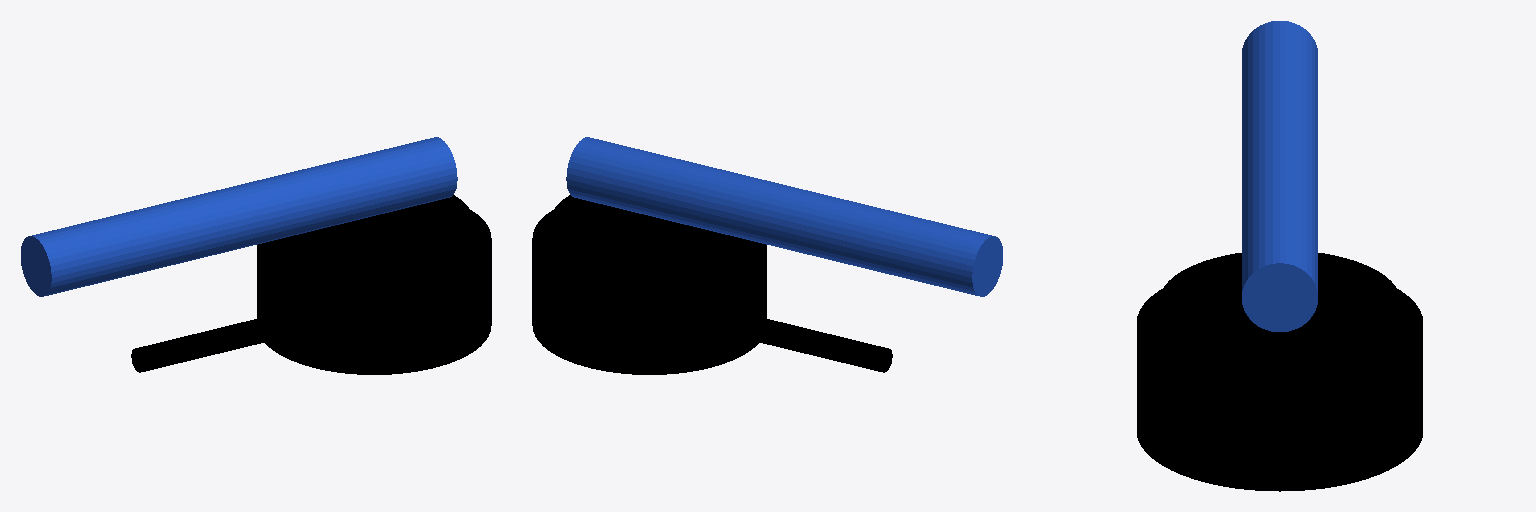
robot.urdf — iiwa7:
<?xml version="1.0" ?>
<!-- =================================================================================== -->
<!-- |    This document was autogenerated by xacro from xacro/iiwa7.urdf.xacro         | -->
<!-- |    EDITING THIS FILE BY HAND IS NOT RECOMMENDED                                 | -->
<!-- =================================================================================== -->
<robot name="iiwa7" xmlns:xacro="http://www.ros.org/wiki/xacro">
  <material name="Black">
    <color rgba="0.0 0.0 0.0 1.0"/>
  </material>
  <material name="Blue">
    <color rgba="0.0 0.0 0.8 1.0"/>
  </material>
  <material name="Light_blue">
    <color rgba="0.2 0.4 0.8 1.0"/>
  </material>
  <material name="Green">
    <color rgba="0.0 0.8 0.0 1.0"/>
  </material>
  <material name="Grey">
    <color rgba="0.4 0.4 0.4 1.0"/>
  </material>
  <material name="Orange">
    <color rgba="1.0 0.4235294117647059 0.0392156862745098 1.0"/>
  </material>
  <material name="Brown">
    <color rgba="0.8705882352941177 0.8117647058823529 0.7647058823529411 1.0"/>
  </material>
  <material name="Red">
    <color rgba="0.8 0.0 0.0 1.0"/>
  </material>
  <material name="White">
    <color rgba="1.0 1.0 1.0 1.0"/>
  </material>
  <link name="iiwa_link_0">
    <inertial>
      <origin rpy="0 0 0" xyz="-0.1 0 0.07"/>
      <mass value="5"/>
      <inertia ixx="0.05" ixy="0" ixz="0" iyy="0.06" iyz="0" izz="0.03"/>
    </inertial>
    <visual>
      <origin rpy="0 0 0" xyz="0 0 0"/>
      <geometry>
        <mesh filename="meshes/iiwa7/visual/link_0.stl"/>
      </geometry>
      <material name="Grey"/>
    </visual>
    <collision>
      <origin rpy="0 0 0" xyz="0 0 0"/>
      <geometry>
        <mesh filename="meshes/iiwa7/collision/link_0.stl"/>
      </geometry>
      <material name="Grey"/>
    </collision>
    <self_collision_checking>
      <origin rpy="0 0 0" xyz="0 0 0"/>
      <geometry>
        <cylinder length="0.25" radius="0.15"/>
      </geometry>
    </self_collision_checking>
  </link>
  <!-- joint between link_0 and link_1 -->
  <joint name="iiwa_joint_1" type="revolute">
    <parent link="iiwa_link_0"/>
    <child link="iiwa_link_1"/>
    <origin rpy="0 0 0" xyz="0 0 0.15"/>
    <axis xyz="0 0 1"/>
    <limit effort="300" lower="-2.9670597283903604" upper="2.9670597283903604" velocity="10"/>
    <safety_controller k_position="100" k_velocity="2" soft_lower_limit="-2.9321531433504737" soft_upper_limit="2.9321531433504737"/>
    <dynamics damping="0.5"/>
  </joint>
  <link name="iiwa_link_1">
    <inertial>
      <origin rpy="0 0 0" xyz="0 -0.03 0.12"/>
      <mass value="3.4525"/>
      <inertia ixx="0.02183" ixy="0" ixz="0" iyy="0.007703" iyz="-0.003887" izz="0.02083"/>
    </inertial>
    <visual>
      <origin rpy="0 0 0" xyz="0 0 0.0075"/>
      <geometry>
        <mesh filename="meshes/iiwa7/visual/link_1.stl"/>
      </geometry>
      <material name="Orange"/>
    </visual>
    <collision>
      <origin rpy="0 0 0" xyz="0 0 0.0075"/>
      <geometry>
        <mesh filename="meshes/iiwa7/collision/link_1.stl"/>
      </geometry>
      <material name="Orange"/>
    </collision>
  </link>
  <joint name="iiwa_joint_2" type="revolute">
    <parent link="iiwa_link_1"/>
    <child link="iiwa_link_2"/>
    <origin rpy="1.5707963267948966   0 3.141592653589793" xyz="0 0 0.19"/>
    <axis xyz="0 0 1"/>
    <limit effort="300" lower="-2.0943951023931953" upper="2.0943951023931953" velocity="10"/>
    <safety_controller k_position="100" k_velocity="2" soft_lower_limit="-2.0594885173533086" soft_upper_limit="2.0594885173533086"/>
    <dynamics damping="0.5"/>
  </joint>
  <link name="iiwa_link_2">
    <inertial>
      <origin rpy="0 0 0" xyz="0.0003 0.059 0.042"/>
      <mass value="3.4821"/>
      <inertia ixx="0.02076" ixy="0" ixz="-0.003626" iyy="0.02179" iyz="0" izz="0.00779"/>
    </inertial>
    <visual>
      <origin rpy="0 0 0" xyz="0 0 0"/>
      <geometry>
        <mesh filename="meshes/iiwa7/visual/link_2.stl"/>
      </geometry>
      <material name="Orange"/>
    </visual>
    <collision>
      <origin rpy="0 0 0" xyz="0 0 0"/>
      <geometry>
        <mesh filename="meshes/iiwa7/collision/link_2.stl"/>
      </geometry>
      <material name="Orange"/>
    </collision>
  </link>
  <joint name="iiwa_joint_3" type="revolute">
    <parent link="iiwa_link_2"/>
    <child link="iiwa_link_3"/>
    <origin rpy="1.5707963267948966 0 3.141592653589793" xyz="0 0.21 0"/>
    <axis xyz="0 0 1"/>
    <limit effort="300" lower="-2.9670597283903604" upper="2.9670597283903604" velocity="10"/>
    <safety_controller k_position="100" k_velocity="2" soft_lower_limit="-2.9321531433504737" soft_upper_limit="2.9321531433504737"/>
    <dynamics damping="0.5"/>
  </joint>
  <link name="iiwa_link_3">
    <inertial>
      <origin rpy="0 0 0" xyz="0 0.03 0.13"/>
      <mass value="4.05623"/>
      <inertia ixx="0.03204" ixy="0" ixz="0" iyy="0.00972" iyz="0.006227" izz="0.03042"/>
    </inertial>
    <visual>
      <origin rpy="0 0 0" xyz="0 0 -0.026"/>
      <geometry>
        <mesh filename="meshes/iiwa7/visual/link_3.stl"/>
      </geometry>
      <material name="Orange"/>
    </visual>
    <collision>
      <origin rpy="0 0 0" xyz="0 0 -0.026"/>
      <geometry>
        <mesh filename="meshes/iiwa7/collision/link_3.stl"/>
      </geometry>
      <material name="Orange"/>
    </collision>
  </link>
  <joint name="iiwa_joint_4" type="revolute">
    <parent link="iiwa_link_3"/>
    <child link="iiwa_link_4"/>
    <origin rpy="1.5707963267948966 0 0" xyz="0 0 0.19"/>
    <axis xyz="0 0 1"/>
    <limit effort="300" lower="-2.0943951023931953" upper="2.0943951023931953" velocity="10"/>
    <safety_controller k_position="100" k_velocity="2" soft_lower_limit="-2.0594885173533086" soft_upper_limit="2.0594885173533086"/>
    <dynamics damping="0.5"/>
  </joint>
  <link name="iiwa_link_4">
    <inertial>
      <origin rpy="0 0 0" xyz="0 0.067 0.034"/>
      <mass value="3.4822"/>
      <inertia ixx="0.02178" ixy="0" ixz="0" iyy="0.02075" iyz="-0.003625" izz="0.007785"/>
    </inertial>
    <visual>
      <origin rpy="0 0 0" xyz="0 0 0"/>
      <geometry>
        <mesh filename="meshes/iiwa7/visual/link_4.stl"/>
      </geometry>
      <material name="Orange"/>
    </visual>
    <collision>
      <origin rpy="0 0 0" xyz="0 0 0"/>
      <geometry>
        <mesh filename="meshes/iiwa7/collision/link_4.stl"/>
      </geometry>
      <material name="Orange"/>
    </collision>
  </link>
  <joint name="iiwa_joint_5" type="revolute">
    <parent link="iiwa_link_4"/>
    <child link="iiwa_link_5"/>
    <origin rpy="-1.5707963267948966 3.141592653589793 0" xyz="0 0.21 0"/>
    <axis xyz="0 0 1"/>
    <limit effort="300" lower="-2.9670597283903604" upper="2.9670597283903604" velocity="10"/>
    <safety_controller k_position="100" k_velocity="2" soft_lower_limit="-2.9321531433504737" soft_upper_limit="2.9321531433504737"/>
    <dynamics damping="0.5"/>
  </joint>
  <link name="iiwa_link_5">
    <inertial>
      <origin rpy="0 0 0" xyz="0.0001 0.021 0.076"/>
      <mass value="2.1633"/>
      <inertia ixx="0.01287" ixy="0" ixz="0" iyy="0.005708" iyz="-0.003946" izz="0.01112"/>
    </inertial>
    <visual>
      <origin rpy="0 0 0" xyz="0 0 -0.026"/>
      <geometry>
        <mesh filename="meshes/iiwa7/visual/link_5.stl"/>
      </geometry>
      <material name="Orange"/>
    </visual>
    <collision>
      <origin rpy="0 0 0" xyz="0 0 -0.026"/>
      <geometry>
        <mesh filename="meshes/iiwa7/collision/link_5.stl"/>
      </geometry>
      <material name="Orange"/>
    </collision>
  </link>
  <joint name="iiwa_joint_6" type="revolute">
    <parent link="iiwa_link_5"/>
    <child link="iiwa_link_6"/>
    <origin rpy="1.5707963267948966 0 0" xyz="0 0.06070 0.19"/>
    <axis xyz="0 0 1"/>
    <limit effort="300" lower="-2.0943951023931953" upper="2.0943951023931953" velocity="10"/>
    <safety_controller k_position="100" k_velocity="2" soft_lower_limit="-2.0594885173533086" soft_upper_limit="2.0594885173533086"/>
    <dynamics damping="0.5"/>
  </joint>
  <link name="iiwa_link_6">
    <inertial>
      <origin rpy="0 0 0" xyz="0 0.0006 0.0004"/>
      <mass value="2.3466"/>
      <inertia ixx="0.006509" ixy="0" ixz="0" iyy="0.006259" iyz="0.00031891" izz="0.004527"/>
    </inertial>
    <visual>
      <origin rpy="0 0 0" xyz="0 0 0"/>
      <geometry>
        <mesh filename="meshes/iiwa7/visual/link_6.stl"/>
      </geometry>
      <material name="Orange"/>
    </visual>
    <collision>
      <origin rpy="0 0 0" xyz="0 0 0"/>
      <geometry>
        <mesh filename="meshes/iiwa7/collision/link_6.stl"/>
      </geometry>
      <material name="Orange"/>
    </collision>
  </link>
  <joint name="iiwa_joint_7" type="revolute">
    <parent link="iiwa_link_6"/>
    <child link="iiwa_link_7"/>
    <origin rpy="-1.5707963267948966 3.141592653589793 0" xyz="0 0.081 0.06070"/>
    <axis xyz="0 0 1"/>
    <limit effort="300" lower="-3.0543261909900763" upper="3.0543261909900763" velocity="10"/>
    <safety_controller k_position="100" k_velocity="2" soft_lower_limit="-3.01941960595019" soft_upper_limit="3.01941960595019"/>
    <dynamics damping="0.5"/>
  </joint>
  <link name="iiwa_link_7">
    <inertial>
      <origin rpy="0 0 0" xyz="0 0 0.02"/>
      <mass value="3.129"/>
      <inertia ixx="0.01464" ixy="0.0005912" ixz="0" iyy="0.01465" iyz="0" izz="0.002872"/>
    </inertial>
    <visual>
      <origin rpy="0 0 0" xyz="0 0 -0.0005"/>
      <geometry>
        <mesh filename="meshes/iiwa7/visual/link_7.stl"/>
      </geometry>
      <material name="Grey"/>
    </visual>
    <collision>
      <origin rpy="0 0 0" xyz="0 0 -0.0005"/>
      <geometry>
        <mesh filename="meshes/iiwa7/collision/link_7.stl"/>
      </geometry>
      <material name="Grey"/>
    </collision>
  </link>
  <!-- force torque sensor -->
  <joint name="iiwa_joint_fts" type="fixed">
    <origin rpy="0 0 0" xyz="0 0 0.036"/>
    <parent link="iiwa_link_7"/>
    <child link="iiwa_link_fts"/>
  </joint>
  <link name="iiwa_link_fts">
    <inertial>
      <origin rpy="0 0 0" xyz="0 0 0.01875"/>
      <mass value="0.65"/>
      <inertia ixx="0.000661171875" ixy="0" ixz="0" iyy="0.000661171875" iyz="0" izz="0.00117"/>
    </inertial>
    <visual>
      <origin rpy="0 0 0" xyz="0 0 0"/>
      <geometry>
        <mesh filename="meshes/robotiq-ft300/visual/robotiq_fts300.dae"/>
      </geometry>
      <material name="Black"/>
    </visual>
  </link>
  <!-- ee_link: peg -->
  <joint name="iiwa_joint_ee" type="fixed">
    <parent link="iiwa_link_fts"/>
    <child link="iiwa_link_ee"/>
    <origin rpy="0 0 0" xyz="0 0 0.05"/>
  </joint>
  <link name="iiwa_link_ee">
    <contact>
      <rolling_friction value="0.001"/>
      <spinning_friction value="0.001"/>
    </contact>
    <inertial>
      <origin rpy="0 1.5708 0" xyz="-0.05 0 0"/>
      <mass value=".1"/>
      <inertia ixx="1" ixy="0" ixz="0" iyy="1" iyz="0" izz="1"/>
    </inertial>
    <visual>
      <origin rpy="0 1.5708 0" xyz="-0.05 0 0"/>
      <geometry>
        <cylinder length="0.15" radius="0.01"/>
      </geometry>
      <material name="Light_blue"/>
    </visual>
    <collision>
      <origin rpy="0 1.5708 0" xyz="-0.05 0 0"/>
      <geometry>
        <cylinder length="0.15" radius="0.01"/>
      </geometry>
    </collision>
  </link>
  <!-- Load Gazebo lib and set the robot namespace -->
  <gazebo>
    <plugin filename="libgazebo_ros_control.so" name="gazebo_ros_control">
      <robotNamespace>/iiwa</robotNamespace>
    </plugin>
  </gazebo>
  <!-- Link0 -->
  <gazebo reference="iiwa_link_0">
    <material>Gazebo/Grey</material>
    <mu1>0.2</mu1>
    <mu2>0.2</mu2>
  </gazebo>
  <!-- Link1 -->
  <gazebo reference="iiwa_link_1">
    <material>Gazebo/Orange</material>
    <mu1>0.2</mu1>
    <mu2>0.2</mu2>
  </gazebo>
  <!-- Link2 -->
  <gazebo reference="iiwa_link_2">
    <material>Gazebo/Orange</material>
    <mu1>0.2</mu1>
    <mu2>0.2</mu2>
  </gazebo>
  <!-- Link3 -->
  <gazebo reference="iiwa_link_3">
    <material>Gazebo/Orange</material>
    <mu1>0.2</mu1>
    <mu2>0.2</mu2>
  </gazebo>
  <!-- Link4 -->
  <gazebo reference="iiwa_link_4">
    <material>Gazebo/Orange</material>
    <mu1>0.2</mu1>
    <mu2>0.2</mu2>
  </gazebo>
  <!-- Link5 -->
  <gazebo reference="iiwa_link_5">
    <material>Gazebo/Orange</material>
    <mu1>0.2</mu1>
    <mu2>0.2</mu2>
  </gazebo>
  <!-- Link6 -->
  <gazebo reference="iiwa_link_6">
    <material>Gazebo/Orange</material>
    <mu1>0.2</mu1>
    <mu2>0.2</mu2>
  </gazebo>
  <!-- Link7 -->
  <gazebo reference="iiwa_link_7">
    <material>Gazebo/Grey</material>
    <mu1>0.2</mu1>
    <mu2>0.2</mu2>
  </gazebo>
  <transmission name="iiwa_tran_1">
    <robotNamespace>/iiwa</robotNamespace>
    <type>transmission_interface/SimpleTransmission</type>
    <joint name="iiwa_joint_1">
      <hardwareInterface>PositionJointInterface</hardwareInterface>
    </joint>
    <actuator name="iiwa_motor_1">
      <hardwareInterface>PositionJointInterface</hardwareInterface>
      <mechanicalReduction>1</mechanicalReduction>
    </actuator>
  </transmission>
  <transmission name="iiwa_tran_2">
    <robotNamespace>/iiwa</robotNamespace>
    <type>transmission_interface/SimpleTransmission</type>
    <joint name="iiwa_joint_2">
      <hardwareInterface>PositionJointInterface</hardwareInterface>
    </joint>
    <actuator name="iiwa_motor_2">
      <hardwareInterface>PositionJointInterface</hardwareInterface>
      <mechanicalReduction>1</mechanicalReduction>
    </actuator>
  </transmission>
  <transmission name="iiwa_tran_3">
    <robotNamespace>/iiwa</robotNamespace>
    <type>transmission_interface/SimpleTransmission</type>
    <joint name="iiwa_joint_3">
      <hardwareInterface>PositionJointInterface</hardwareInterface>
    </joint>
    <actuator name="iiwa_motor_3">
      <hardwareInterface>PositionJointInterface</hardwareInterface>
      <mechanicalReduction>1</mechanicalReduction>
    </actuator>
  </transmission>
  <transmission name="iiwa_tran_4">
    <robotNamespace>/iiwa</robotNamespace>
    <type>transmission_interface/SimpleTransmission</type>
    <joint name="iiwa_joint_4">
      <hardwareInterface>PositionJointInterface</hardwareInterface>
    </joint>
    <actuator name="iiwa_motor_4">
      <hardwareInterface>PositionJointInterface</hardwareInterface>
      <mechanicalReduction>1</mechanicalReduction>
    </actuator>
  </transmission>
  <transmission name="iiwa_tran_5">
    <robotNamespace>/iiwa</robotNamespace>
    <type>transmission_interface/SimpleTransmission</type>
    <joint name="iiwa_joint_5">
      <hardwareInterface>PositionJointInterface</hardwareInterface>
    </joint>
    <actuator name="iiwa_motor_5">
      <hardwareInterface>PositionJointInterface</hardwareInterface>
      <mechanicalReduction>1</mechanicalReduction>
    </actuator>
  </transmission>
  <transmission name="iiwa_tran_6">
    <robotNamespace>/iiwa</robotNamespace>
    <type>transmission_interface/SimpleTransmission</type>
    <joint name="iiwa_joint_6">
      <hardwareInterface>PositionJointInterface</hardwareInterface>
    </joint>
    <actuator name="iiwa_motor_6">
      <hardwareInterface>PositionJointInterface</hardwareInterface>
      <mechanicalReduction>1</mechanicalReduction>
    </actuator>
  </transmission>
  <transmission name="iiwa_tran_7">
    <robotNamespace>/iiwa</robotNamespace>
    <type>transmission_interface/SimpleTransmission</type>
    <joint name="iiwa_joint_7">
      <hardwareInterface>PositionJointInterface</hardwareInterface>
    </joint>
    <actuator name="iiwa_motor_7">
      <hardwareInterface>PositionJointInterface</hardwareInterface>
      <mechanicalReduction>1</mechanicalReduction>
    </actuator>
  </transmission>
</robot>

--- Render facts (derived) ---
3 views of the same robot in one strip: view 1: azimuth 30°, elevation 25°; view 2: azimuth 150°, elevation 25°; view 3: azimuth 270°, elevation 25° (orthographic).
Robot: iiwa7 — 10 links, 9 joints (7 revolute, 2 fixed); root link iiwa_link_0; default pose: all joints at 0.
Visible links, largest first — view 1: iiwa_link_fts, iiwa_link_ee; view 2: iiwa_link_fts, iiwa_link_ee; view 3: iiwa_link_fts, iiwa_link_ee.
Link boxes in pixels (<box>): iiwa_link_fts: <box>131,195,491,374</box>; iiwa_link_ee: <box>21,137,457,296</box>; iiwa_link_fts: <box>532,195,892,374</box>; iiwa_link_ee: <box>566,137,1002,296</box>; iiwa_link_fts: <box>1137,253,1422,491</box>; iiwa_link_ee: <box>1242,21,1317,331</box>.
Size in the robot's own frame: 0.1625 by 0.075 by 0.06 metres.
Meshes: 9 distinct files referenced, 1 mesh visuals loaded (1 Collada DAE); not drawn: 8 (reference not matched to a file when rendering).